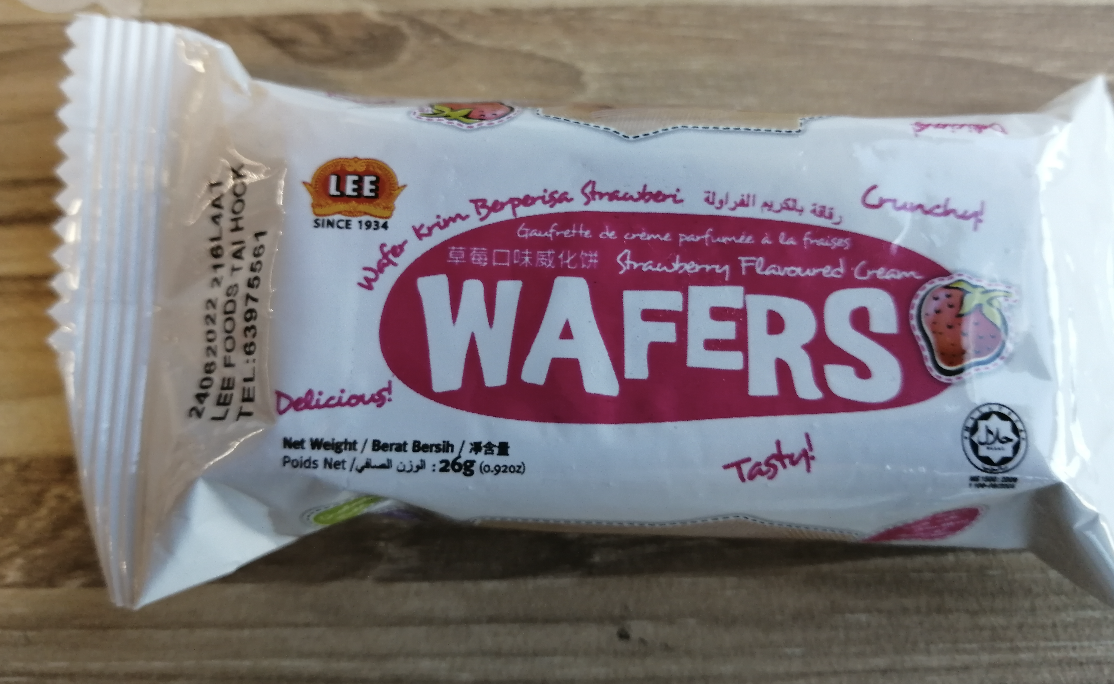Wafers: (120, 131, 1099, 507)
